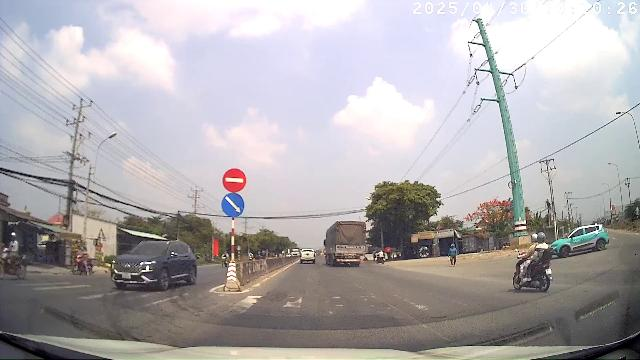102-cam-di-nguoc-chieu: (222, 167, 247, 192)
302a-huong-phai-di-vong-chuong-ngai-vat-1: (221, 192, 245, 218)
